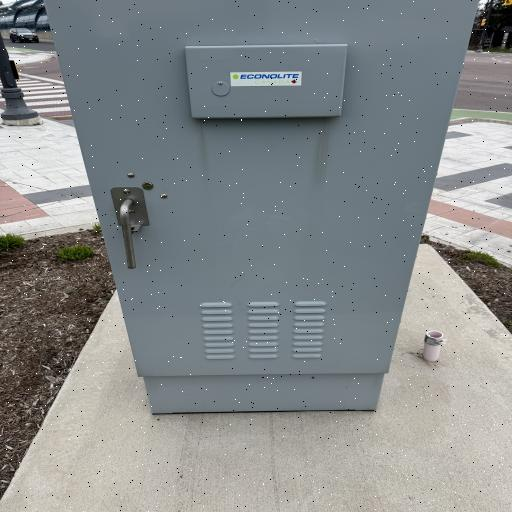Electrical Box: (37, 0, 482, 415)
